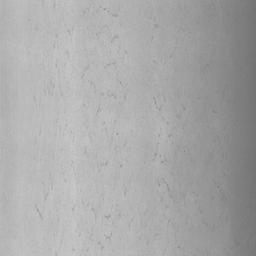Silk spot: (157, 178, 170, 192), (35, 204, 43, 220)
